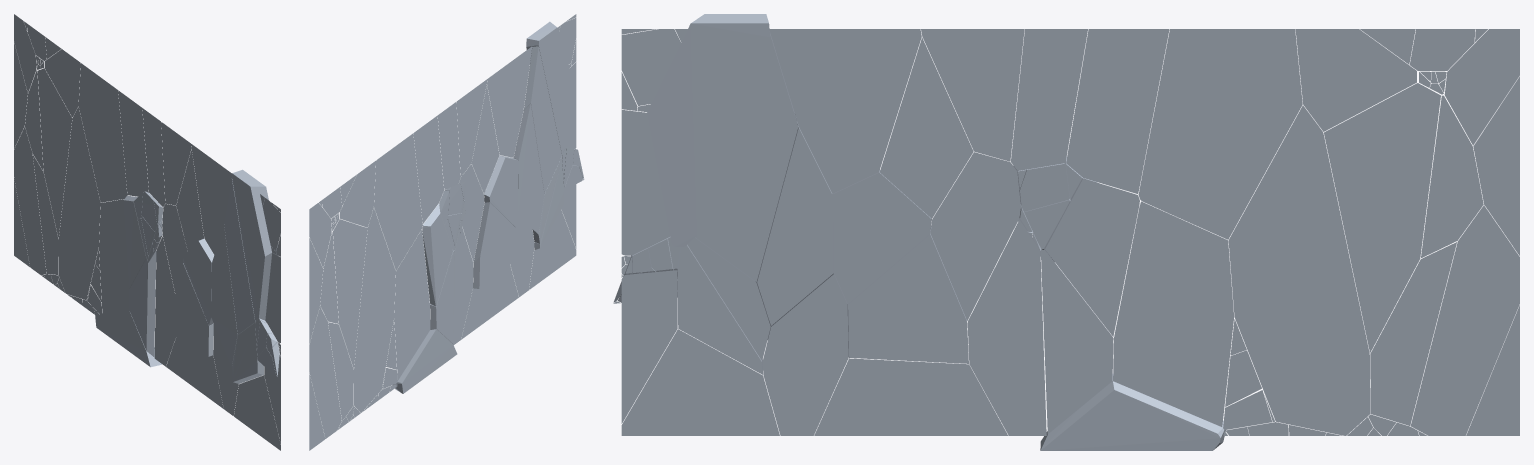
Rendered from GlassWindowBroken.glb.
3 renders of one model, left to right at view 1: azimuth 30°, elevation 25°; view 2: azimuth 150°, elevation 25°; view 3: azimuth 270°, elevation 25°, orthographic. The views are drawn at different scales.
Visible parts, largest first — view 1: Plane_cell.019, Plane_cell.040, Plane_cell.001, Plane_cell.044, Plane_cell.009, Plane_cell.029, Plane_cell.034, Plane_cell.010, Plane_cell.048, Plane_cell.008, Plane_cell.002, Plane_cell.015 (+25 smaller); view 2: Plane_cell.019, Plane_cell.040, Plane_cell.009, Plane_cell.044, Plane_cell.034, Plane_cell.010, Plane_cell.001, Plane_cell.029, Plane_cell.048, Plane_cell.002, Plane_cell.008, Plane_cell.037 (+24 smaller); view 3: Plane_cell.019, Plane_cell.040, Plane_cell.009, Plane_cell.044, Plane_cell.001, Plane_cell.034, Plane_cell.029, Plane_cell.008, Plane_cell.010, Plane_cell.031, Plane_cell.037, Plane_cell.015 (+28 smaller).
Part boxes in pixels (left/top/right/bottom): Plane_cell.019: left=58, top=106, right=100, bottom=300; Plane_cell.040: left=78, top=63, right=127, bottom=202; Plane_cell.001: left=232, top=169, right=277, bottom=322; Plane_cell.044: left=37, top=68, right=72, bottom=238; Plane_cell.009: left=99, top=199, right=129, bottom=314; Plane_cell.029: left=14, top=127, right=46, bottom=275; Plane_cell.034: left=191, top=144, right=231, bottom=254; Plane_cell.010: left=224, top=178, right=255, bottom=334; Plane_cell.048: left=211, top=224, right=237, bottom=366; Plane_cell.008: left=118, top=90, right=148, bottom=196; Plane_cell.002: left=172, top=263, right=213, bottom=356; Plane_cell.015: left=234, top=375, right=280, bottom=450; Plane_cell.019: left=354, top=207, right=395, bottom=412; Plane_cell.040: left=374, top=133, right=422, bottom=270; Plane_cell.009: left=394, top=230, right=430, bottom=380; Plane_cell.044: left=333, top=219, right=367, bottom=368; Plane_cell.034: left=487, top=46, right=532, bottom=157; Plane_cell.010: left=523, top=46, right=561, bottom=193; Plane_cell.001: left=526, top=21, right=571, bottom=155; Plane_cell.029: left=309, top=306, right=341, bottom=438; Plane_cell.048: left=513, top=103, right=544, bottom=234; Plane_cell.002: left=473, top=202, right=515, bottom=288; Plane_cell.008: left=413, top=115, right=444, bottom=223; Plane_cell.037: left=461, top=264, right=518, bottom=339; Plane_cell.019: left=1228, top=105, right=1370, bottom=435; Plane_cell.040: left=1138, top=29, right=1302, bottom=239; Plane_cell.009: left=1113, top=201, right=1234, bottom=426; Plane_cell.044: left=1324, top=83, right=1440, bottom=352; Plane_cell.001: left=647, top=14, right=770, bottom=246; Plane_cell.034: left=769, top=29, right=921, bottom=193; Plane_cell.029: left=1410, top=205, right=1519, bottom=435; Plane_cell.008: left=1066, top=29, right=1169, bottom=193; Plane_cell.010: left=695, top=33, right=798, bottom=281; Plane_cell.031: left=967, top=220, right=1046, bottom=435; Plane_cell.037: left=814, top=358, right=1008, bottom=435; Plane_cell.015: left=621, top=329, right=779, bottom=435.
Bounding box in the file's own units: 0.1009 × 2.1 × 4.04.
